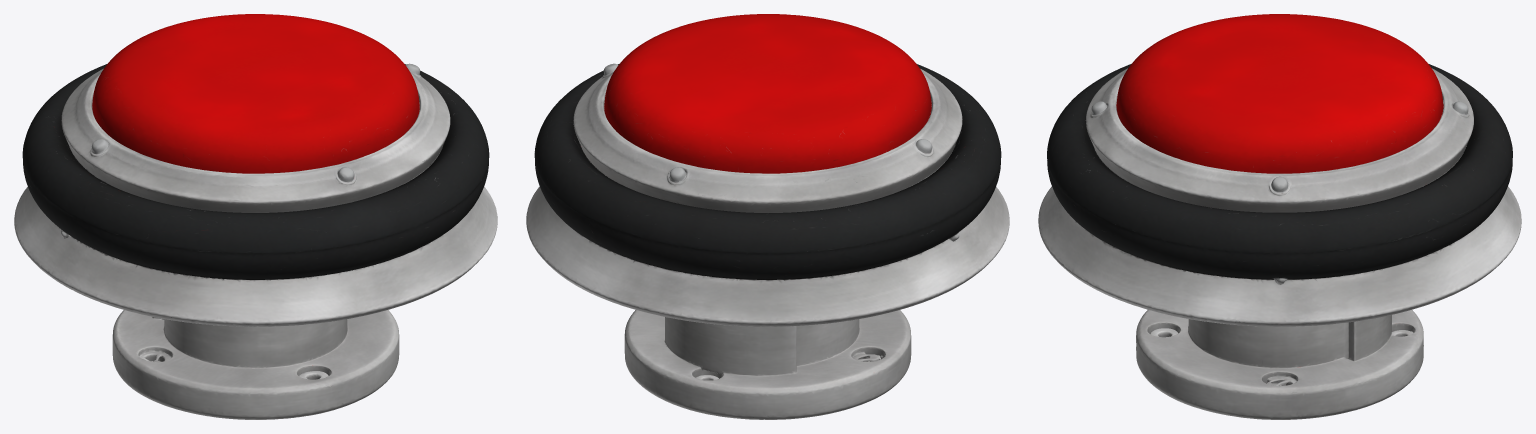
Rendered from bumper.glb.
The picture shows the model from 3 angles, left to right: view 1: azimuth 30°, elevation 25°; view 2: azimuth 150°, elevation 25°; view 3: azimuth 270°, elevation 25°; orthographic projection.
Bounding box in the file's own units: 1 × 0.6827 × 1.
1 material, 1 textured.
